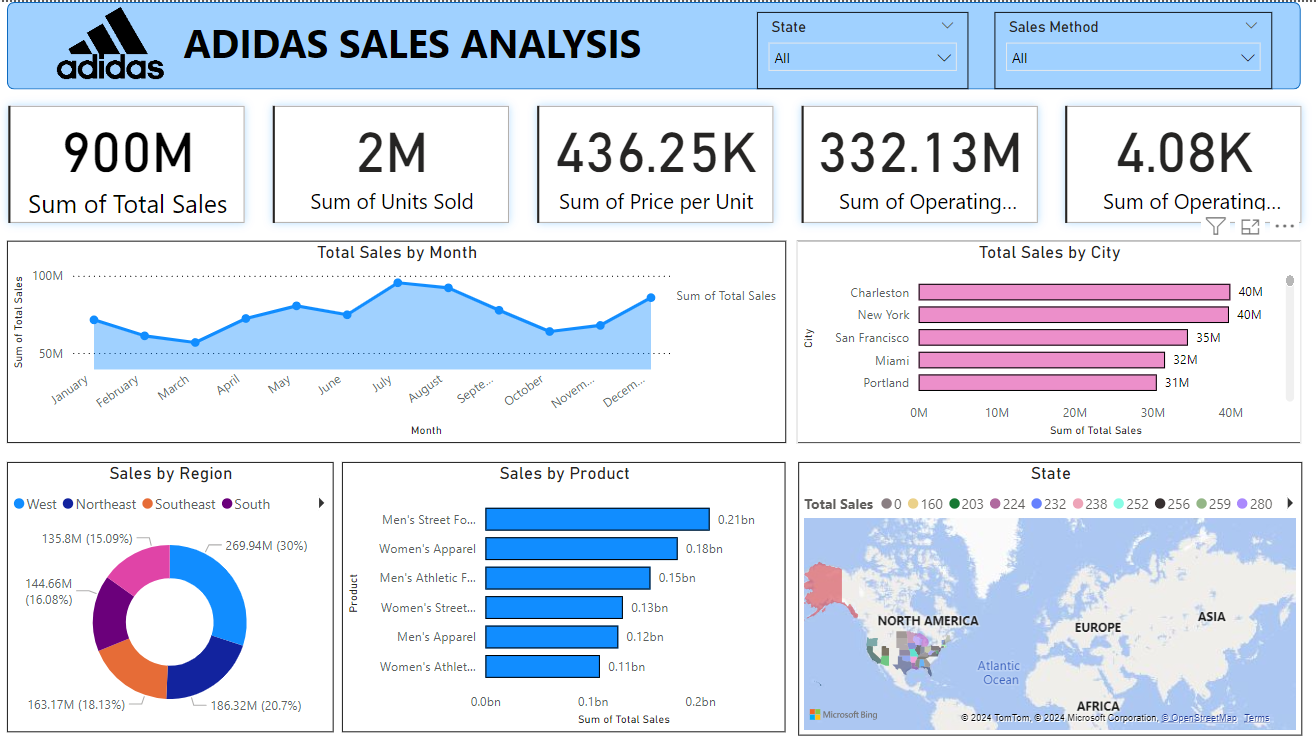

This screenshot's page, from the dashboard's own definition file:
{"tool":"powerbi","page":{"name":"Page 1","canvas":[1280,720],"ordinal":0},"visuals":[{"type":"shape","box":[14.5,0,1248.7,84.5],"z":0},{"type":"textbox","box":[179.8,9.7,491,65.1],"z":1000},{"type":"image","box":[48.3,0,131.5,79.6],"z":2000},{"type":"cardVisual","fields":{"Data":["Sum(Data Sales Adidas.Total Sales)","Sum(Data Sales Adidas.Units Sold)","Sum(Data Sales Adidas.Price per Unit)","Sum(Data Sales Adidas.Operating Profit)","Sum(Data Sales Adidas.Operating Margin)"]},"box":[0,84.5,1280,146],"z":3000},{"type":"donutChart","title":"Sales by Region","fields":{"Y":["Sum(Data Sales Adidas.Total Sales)"],"Category":["Data Sales Adidas.Region"]},"box":[14.5,444,314.9,260.6],"z":4000},{"type":"barChart","title":"Sales by Product","fields":{"Y":["Sum(Data Sales Adidas.Total Sales)"],"Category":["Data Sales Adidas.Product"]},"box":[337.8,444,428.3,260.6],"z":5000},{"type":"barChart","title":"Total Sales by City","fields":{"Y":["Sum(Data Sales Adidas.Total Sales)"],"Category":["Data Sales Adidas.City"]},"box":[776.9,230.4,486.2,195.4],"z":6000},{"type":"lineChart","title":"Total Sales by Month","fields":{"Category":["Data Sales Adidas.Invoice Date.Variation.Date Hierarchy.Month"],"Y":["Sum(Data Sales Adidas.Total Sales)"]},"box":[14.5,230.4,751.6,195.4],"z":7000},{"type":"filledMap","title":"State","fields":{"Category":["Data Sales Adidas.State"],"Series":["Data Sales Adidas.Total Sales"]},"box":[778.2,444,486.2,264.2],"z":8000},{"type":"slicer","fields":{"Values":["Data Sales Adidas.State"]},"box":[738.3,9.7,203.9,74.8],"z":9000},{"type":"slicer","fields":{"Values":["Data Sales Adidas.Sales Method"]},"box":[967.6,9.7,267.8,74.8],"z":10000}]}

Visuals, with their boxes in screenshot pixels (x1, y1, x2, y2), scaled from the page's 1280x720 canvas onto the 1316x744 screenshot:
shape: pyautogui.locateOnScreen(15, 0, 1299, 87)
textbox: pyautogui.locateOnScreen(185, 10, 690, 77)
image: pyautogui.locateOnScreen(50, 0, 185, 82)
cardVisual - Sum(Data Sales Adidas.Total Sales) x Sum(Data Sales Adidas.Units Sold): pyautogui.locateOnScreen(0, 87, 1315, 238)
"Sales by Region" donutChart: pyautogui.locateOnScreen(15, 459, 339, 728)
"Sales by Product" barChart: pyautogui.locateOnScreen(347, 459, 788, 728)
"Total Sales by City" barChart: pyautogui.locateOnScreen(799, 238, 1299, 440)
"Total Sales by Month" lineChart: pyautogui.locateOnScreen(15, 238, 788, 440)
"State" filledMap: pyautogui.locateOnScreen(800, 459, 1300, 732)
slicer - Data Sales Adidas.State: pyautogui.locateOnScreen(759, 10, 969, 87)
slicer - Data Sales Adidas.Sales Method: pyautogui.locateOnScreen(995, 10, 1270, 87)
